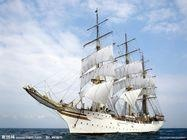fanchuan: (23, 8, 168, 135)
